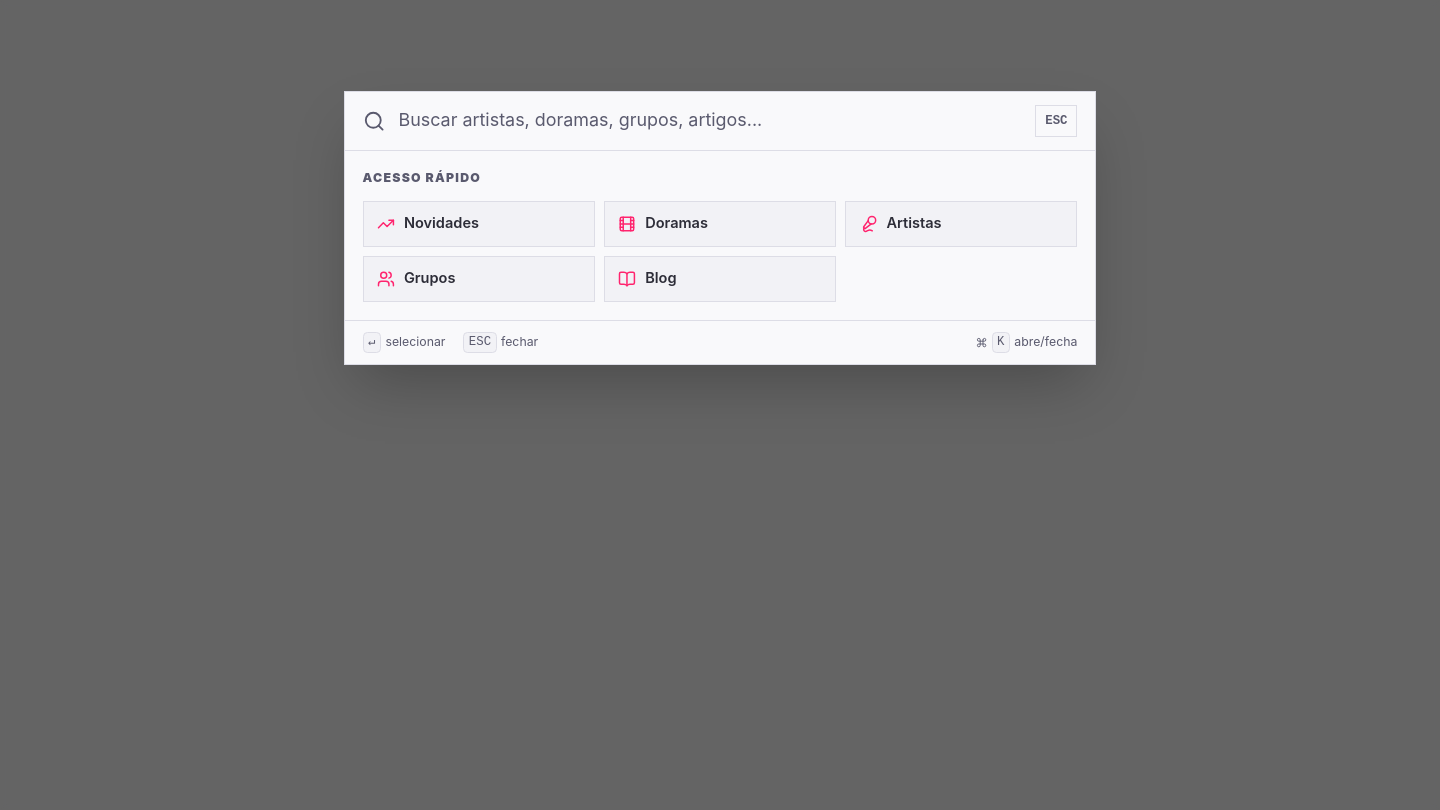
Test: QuickSearch › mostra "Nenhum resultado" quando a busca não retorna nada
The width and height of the screenshot is (1440, 810).
Type "algo" into the dropdown.
click(710, 121); type("algo")  # box x1=398 y1=107 x2=1022 y2=134
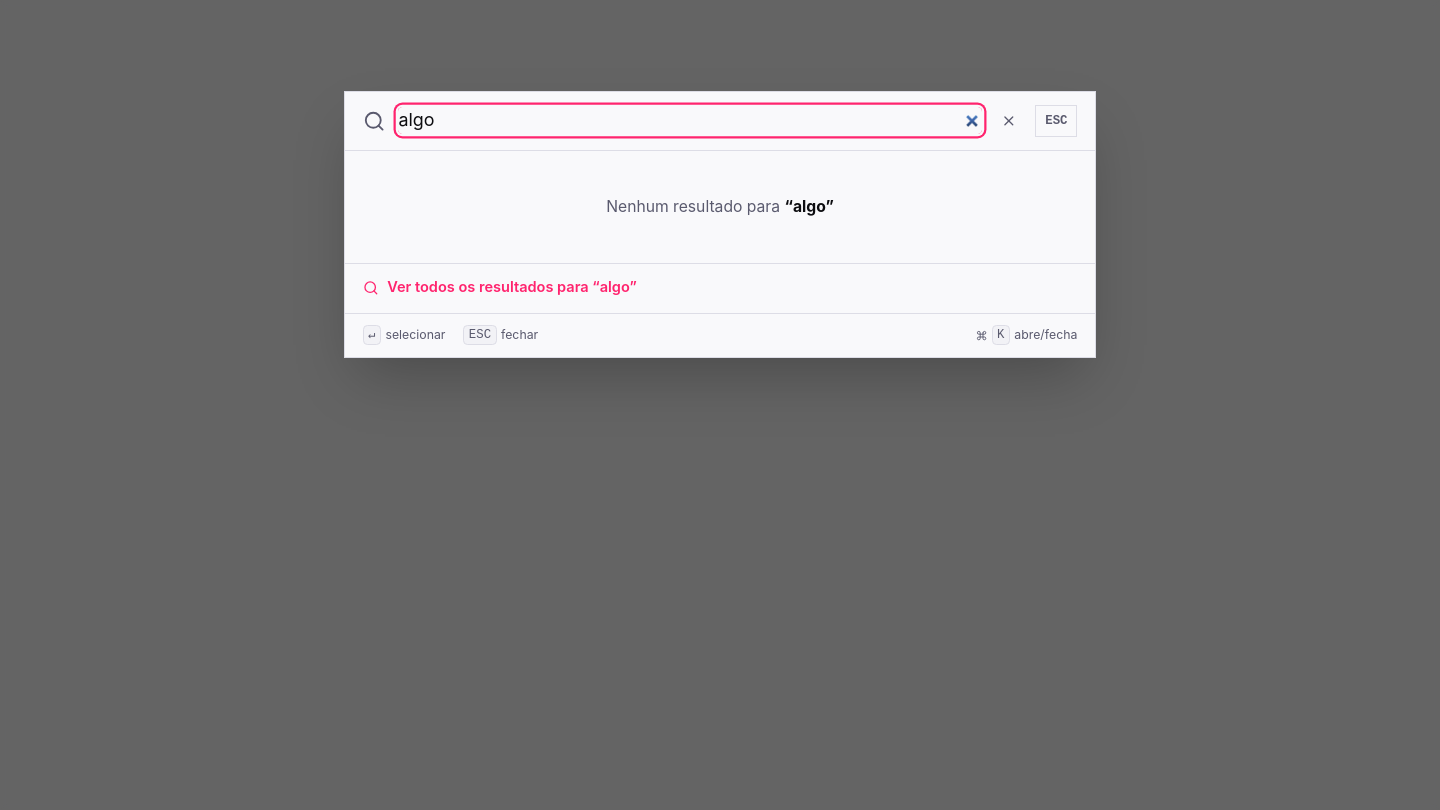
Expected: the text "Nenhum resultado para “algo”" is shown, x1=606 y1=197 x2=834 y2=216
